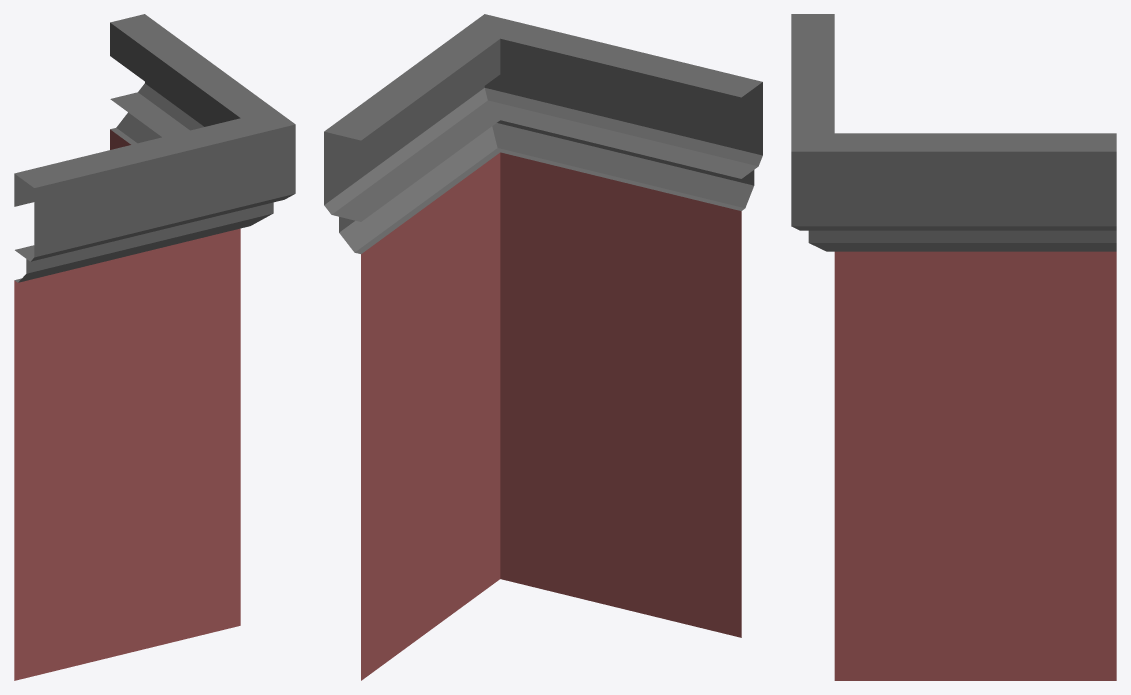
Rendered from Wall_Top_Corner_TEST.fbx.
3 renders of one model, left to right at view 1: azimuth 30°, elevation 25°; view 2: azimuth 150°, elevation 25°; view 3: azimuth 270°, elevation 25°, orthographic. The views are drawn at different scales.
Visible parts, largest first — view 1: Wall_Top_Corner_01; view 2: Wall_Top_Corner_01; view 3: Wall_Top_Corner_01.
Boxes of the visible parts, x1=… form: Wall_Top_Corner_01: x1=14, y1=14, x2=295, y2=680; Wall_Top_Corner_01: x1=324, y1=14, x2=762, y2=680; Wall_Top_Corner_01: x1=791, y1=14, x2=1116, y2=680.
Size of the model in its own units: 2.31 by 4.28 by 2.31.
